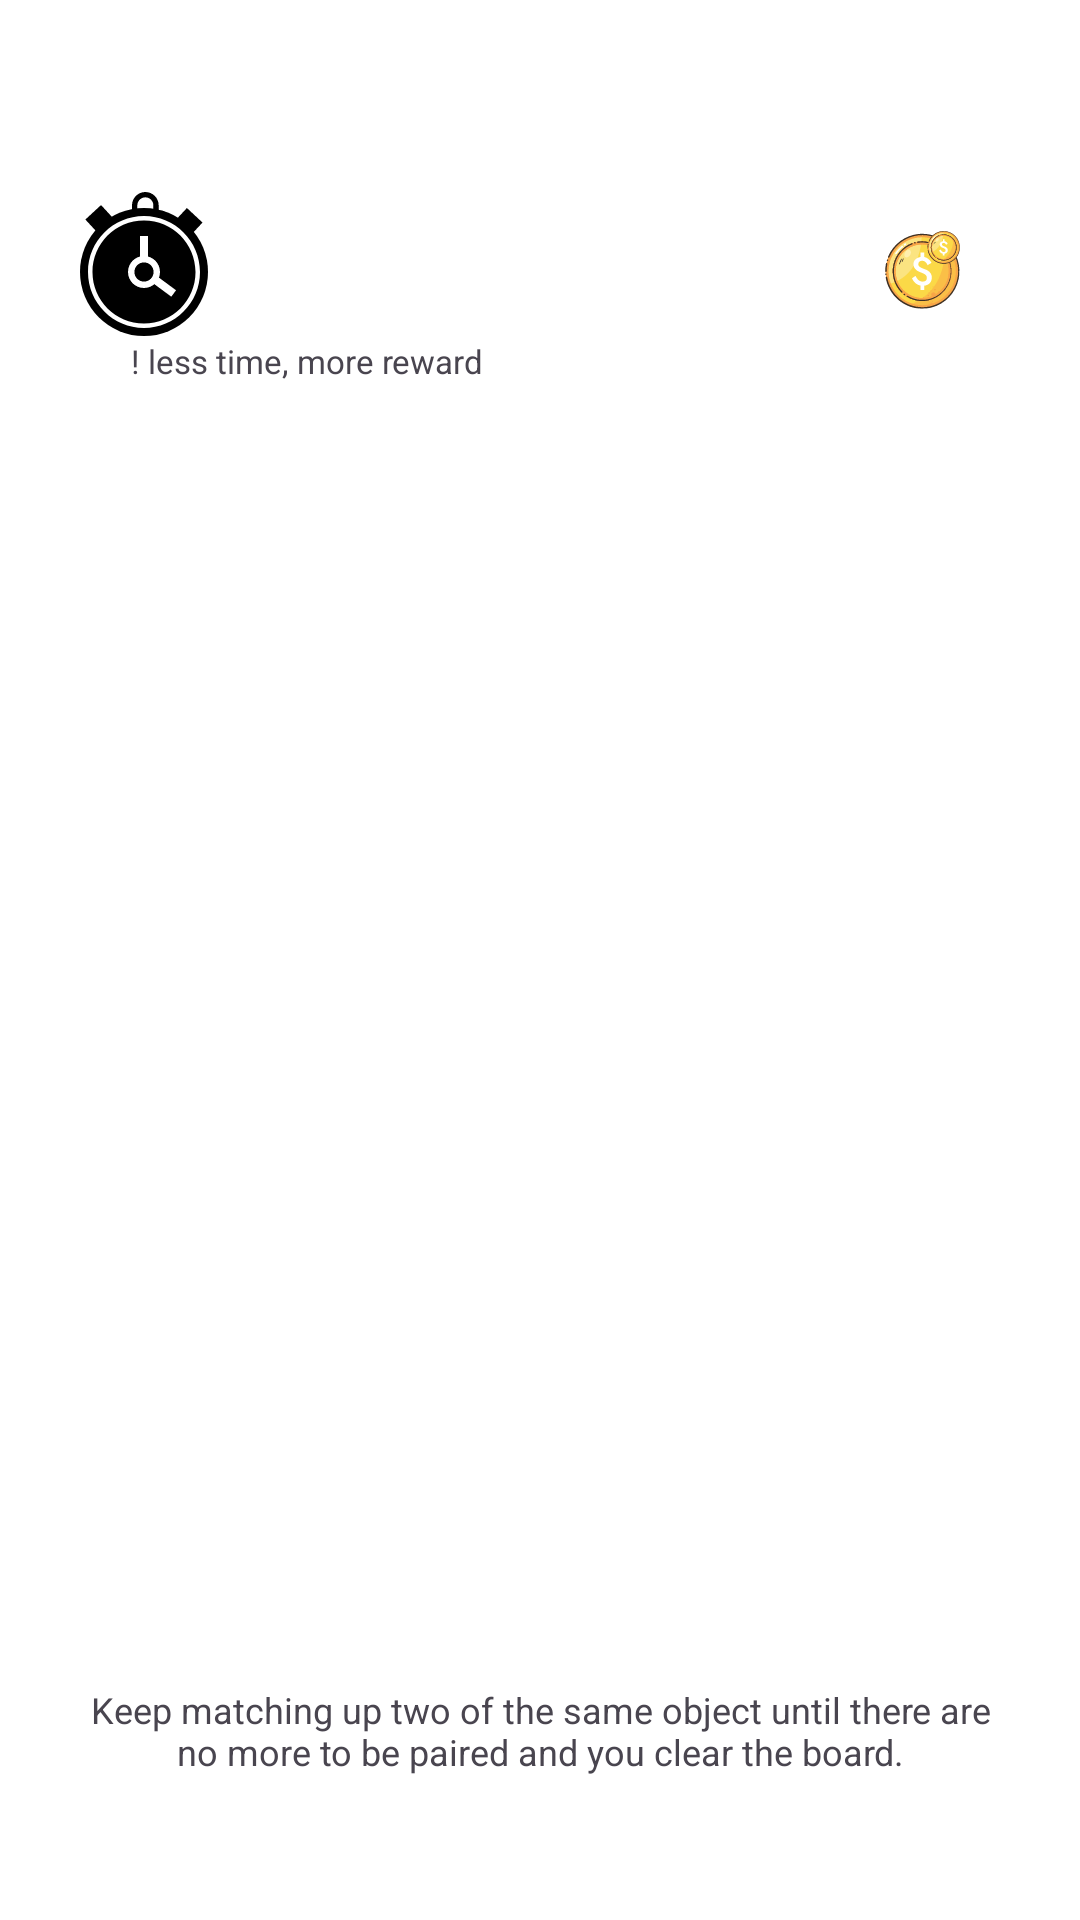

Screen size 1080x1920. Icon name, then its center in pixels as [x,y]:
alarm: [144,264]
